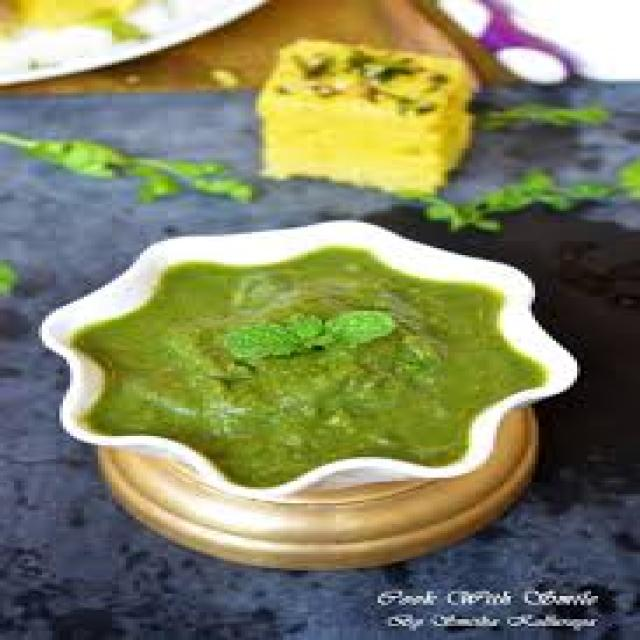GREEN CHUTNEY: (59, 223, 567, 489)
